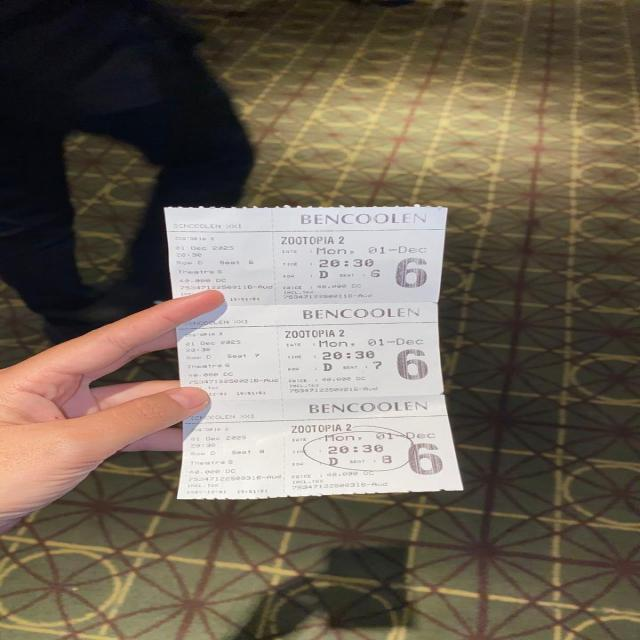date: (172, 244, 242, 259)
store: (295, 214, 432, 227), (169, 220, 245, 229)
total: (280, 284, 368, 290)
